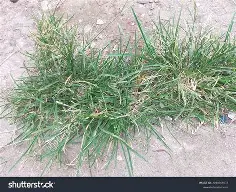weed: (9, 13, 235, 174), (10, 15, 161, 174), (138, 15, 235, 125)
